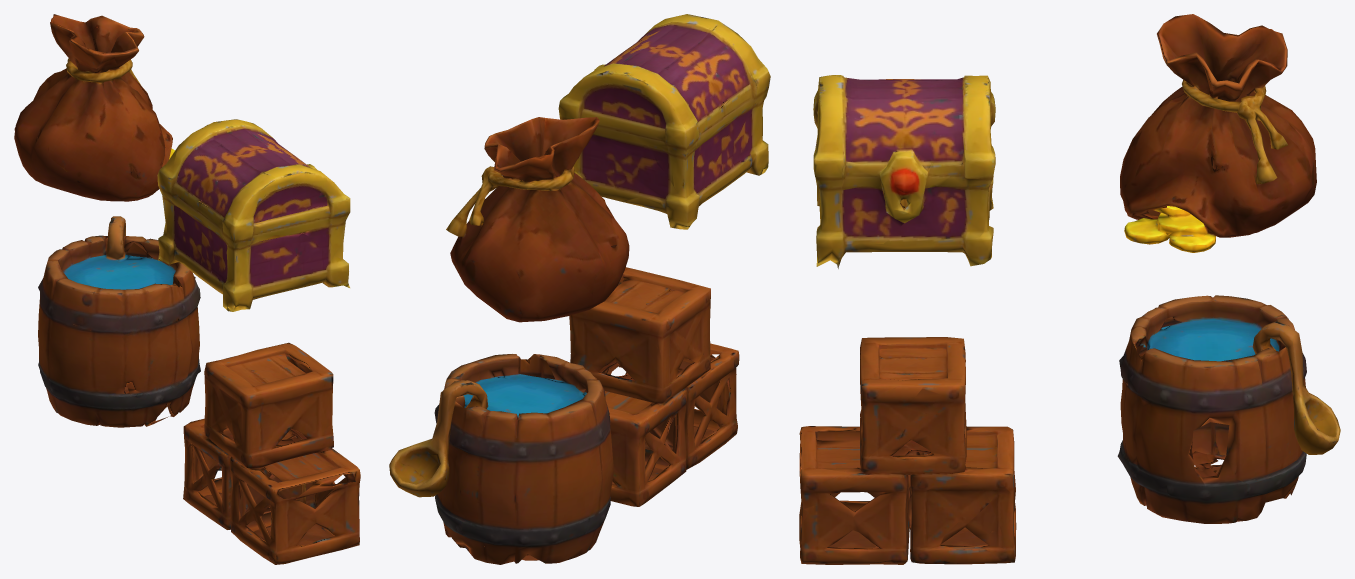
The picture shows the model from 3 angles, left to right: view 1: azimuth 30°, elevation 25°; view 2: azimuth 150°, elevation 25°; view 3: azimuth 270°, elevation 25°; orthographic projection. The views are drawn at different scales.
Visible parts, largest first — view 1: world; view 2: world; view 3: world.
Part boxes in pixels (<box>): world: <box>14,14,360,564</box>; world: <box>389,14,770,564</box>; world: <box>799,14,1340,564</box>.
Size of the model in its own units: 0.4079 by 0.9842 by 0.9993.
Materials: 1 (1 with a texture image).
